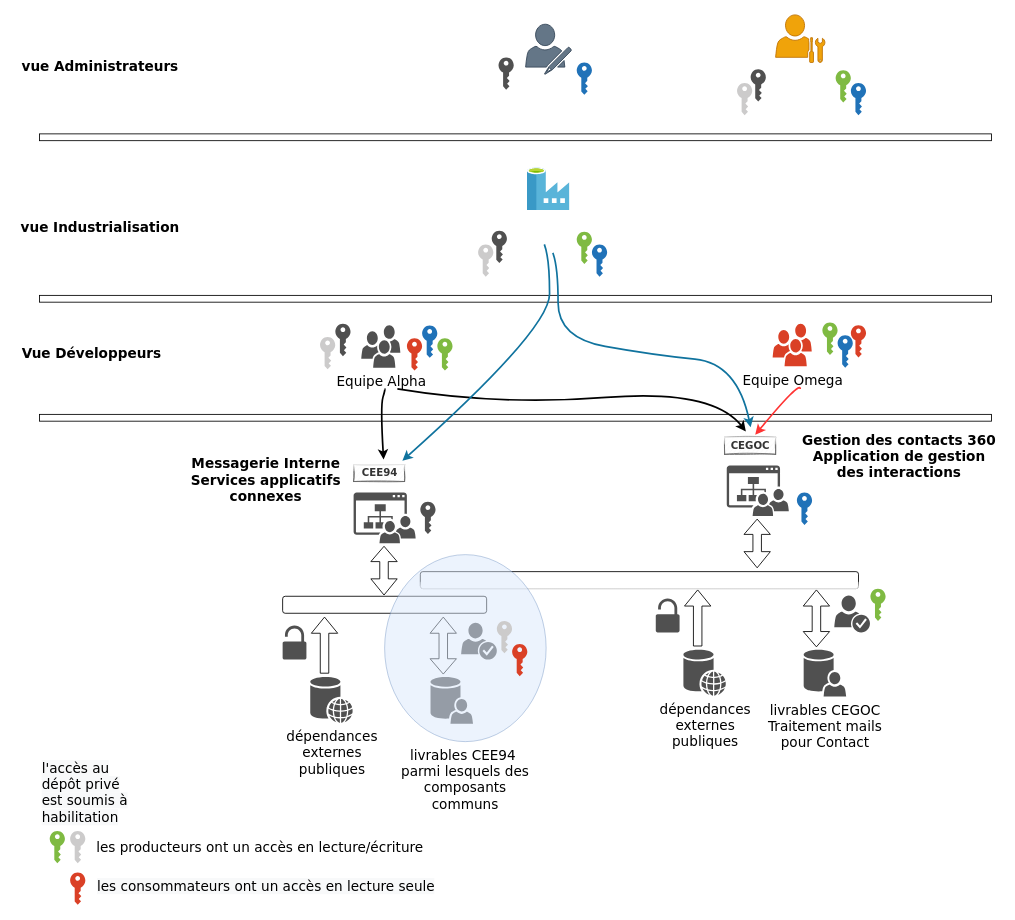
The diagram is 1015 pixels wide and 920 high, and some of its shapes have lost their labels. The centre of each missing label's shape, as x and y in pixels:
admin. indus. éditeurs: point (548, 48)
admin. ULD: point (800, 38)
agent de build: point (548, 188)
